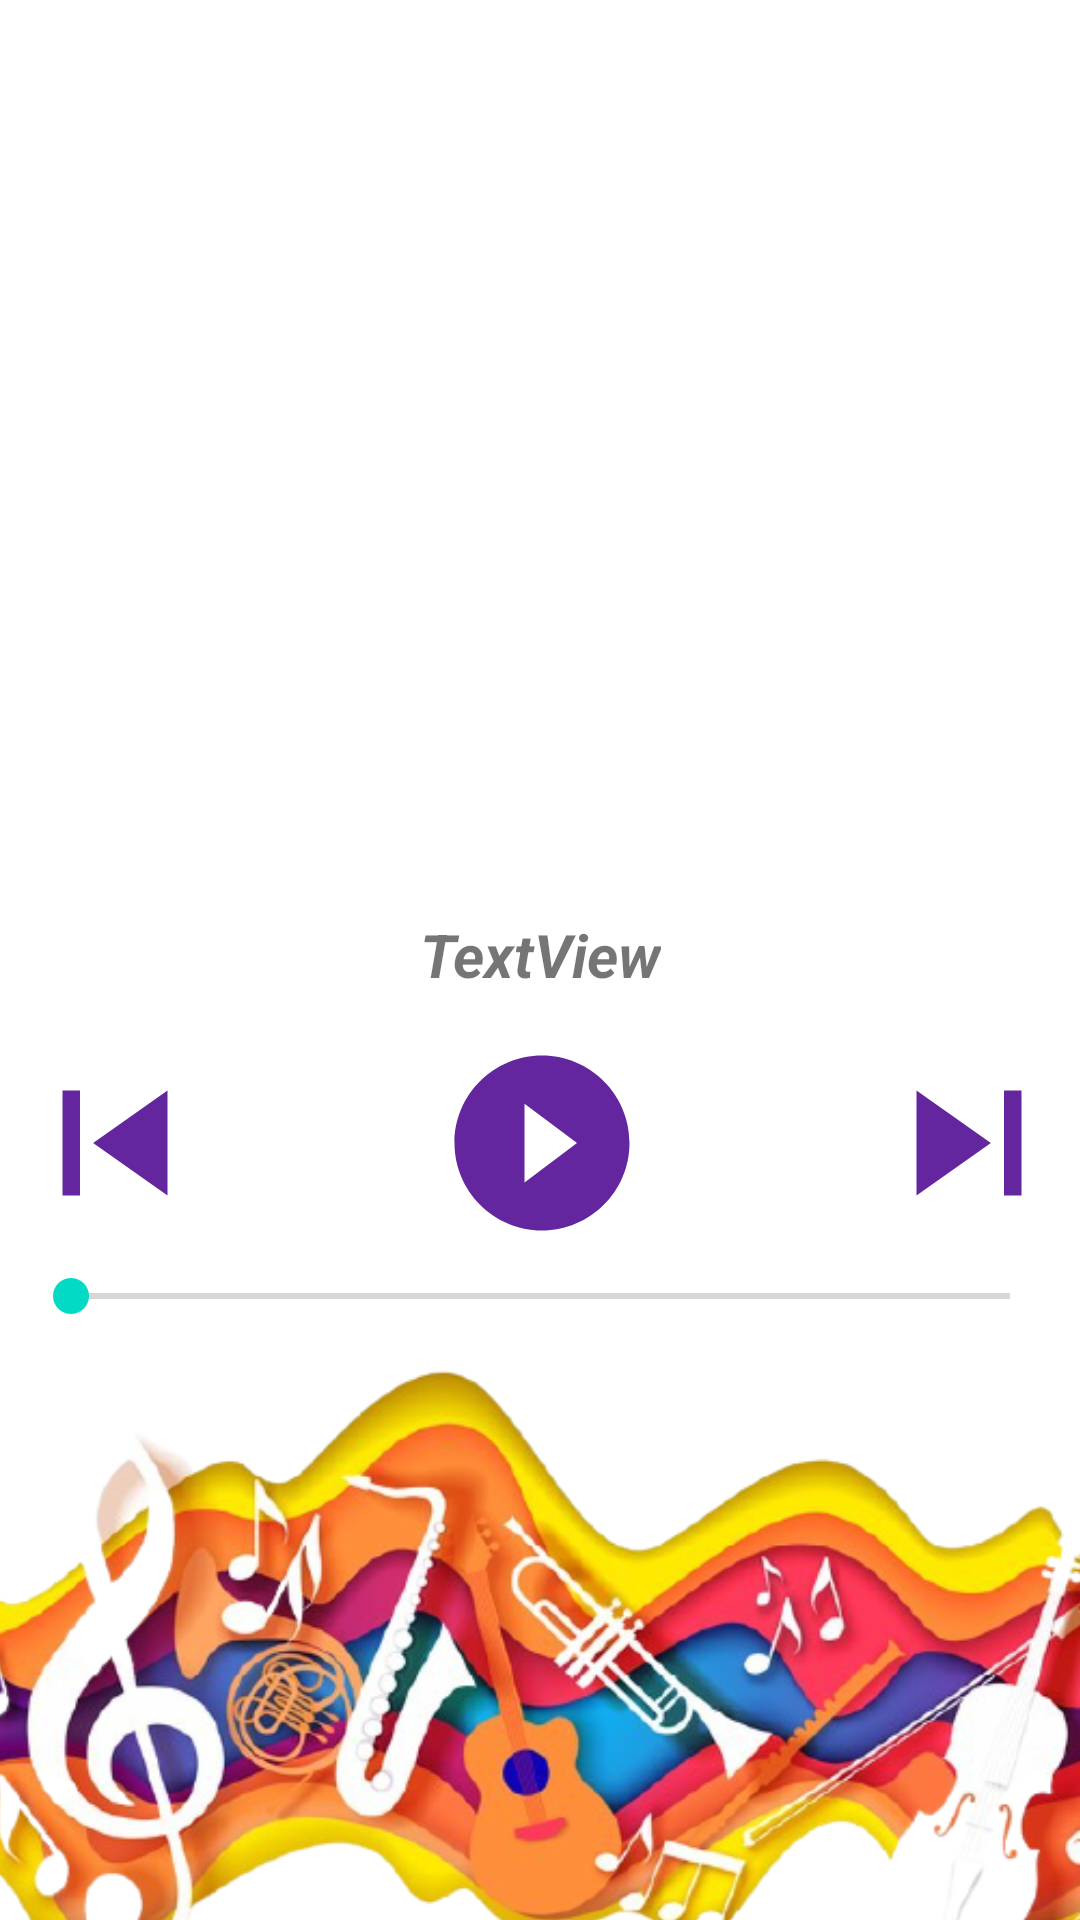

Point at icon controls on the screen. Image size 1080px×1920px, points as [x,y].
play: [542,1143]
